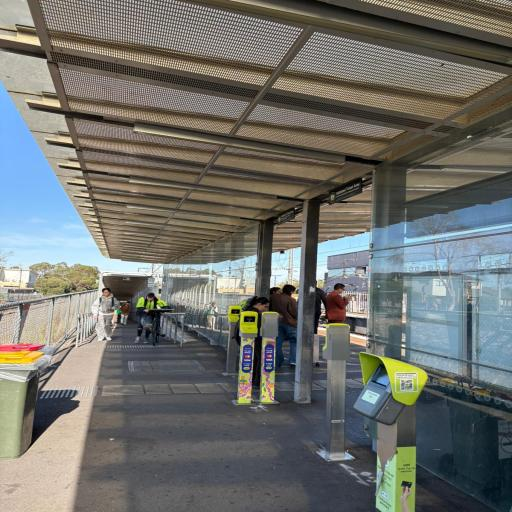Obstruction: (1, 343, 55, 461), (236, 313, 279, 404), (326, 321, 351, 457), (225, 305, 247, 374)
clear_path: (21, 336, 366, 506)
handrail: (162, 313, 188, 347), (76, 313, 94, 349)
signage: (329, 178, 361, 205), (277, 209, 295, 225)
tgsi: (40, 383, 236, 399), (79, 343, 177, 349)
